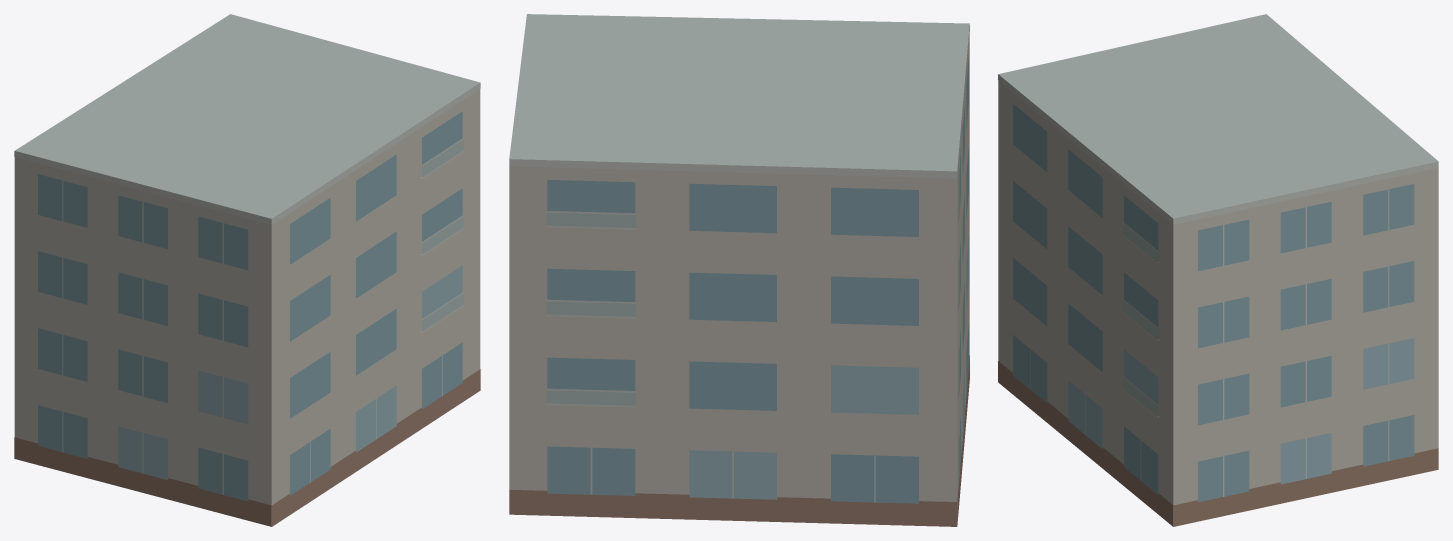
The model's file is survey-upis-32732552.glb.
3 renders of one model, left to right at view 1: azimuth 30°, elevation 25°; view 2: azimuth 150°, elevation 25°; view 3: azimuth 270°, elevation 25°, orthographic. The views are drawn at different scales.
Visible parts, largest first — view 1: survey-upis-32732552.tmp; view 2: survey-upis-32732552.tmp; view 3: survey-upis-32732552.tmp.
Part boxes in pixels (x1=…): survey-upis-32732552.tmp: x1=14, y1=14, x2=480, y2=526; survey-upis-32732552.tmp: x1=509, y1=14, x2=969, y2=526; survey-upis-32732552.tmp: x1=998, y1=14, x2=1438, y2=526.
Size of the model in its own units: 17.39 by 12.2 by 15.82.
